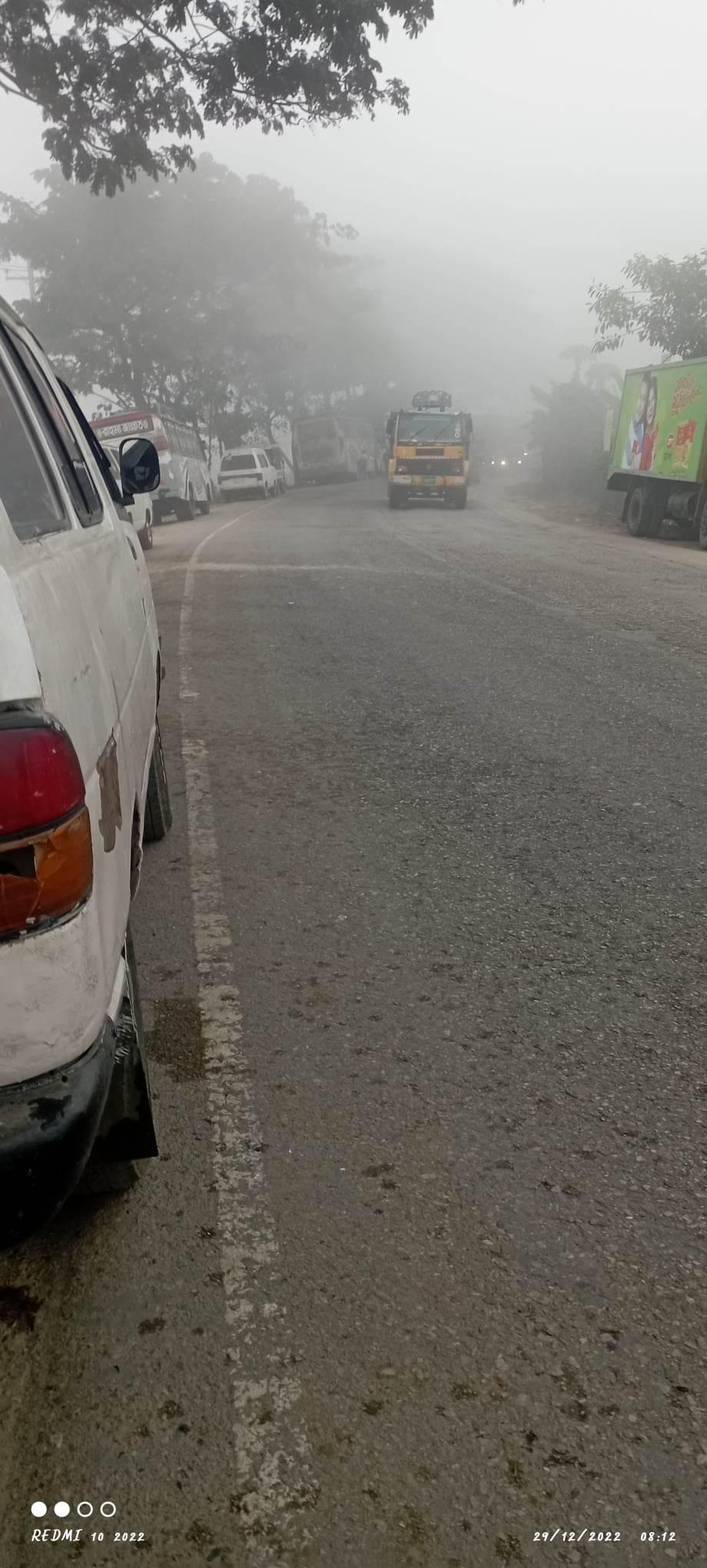Bus: (88, 383, 225, 535)
Car: (5, 259, 276, 1238), (222, 430, 274, 527)
Truck: (579, 345, 707, 560), (379, 377, 479, 537)
